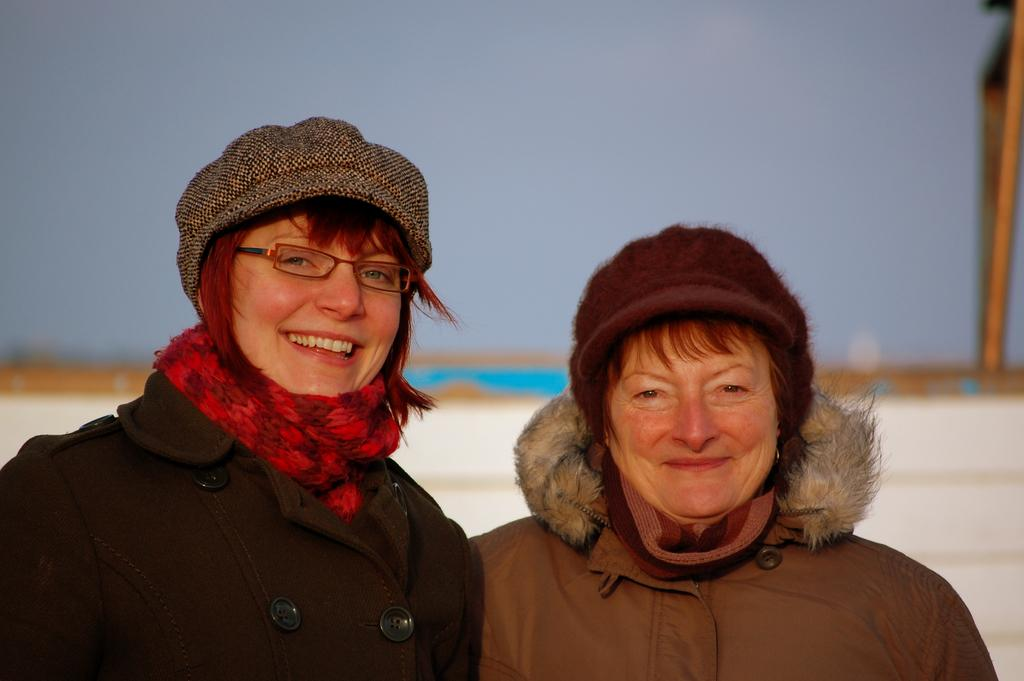Hat: (162, 114, 446, 307)
